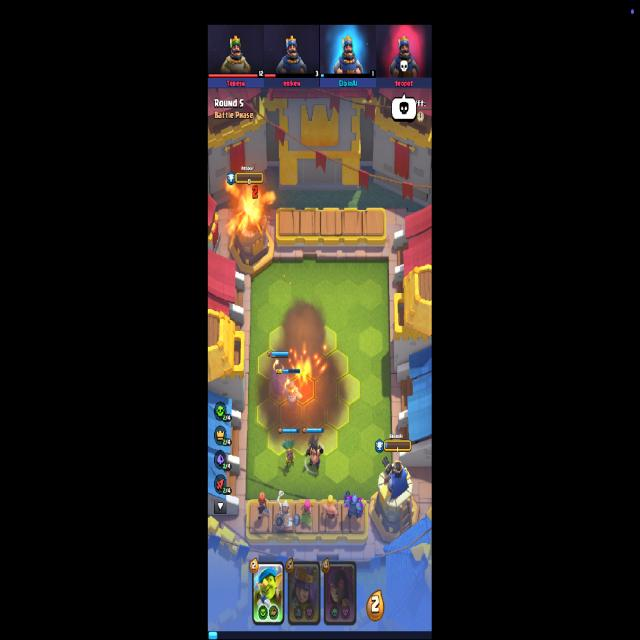archer: (300, 497, 314, 527)
barbarian: (321, 490, 340, 526)
card_archer_queen: (288, 560, 320, 625)
card_spear_goblin: (252, 562, 284, 626)
card_witch: (323, 560, 357, 626)
dart_goblin: (282, 438, 298, 469)
executioner: (305, 434, 324, 474)
giant_skeleton: (274, 490, 299, 534)
knight: (283, 381, 302, 416)
pekka: (344, 490, 367, 529)
valkyrie: (256, 494, 271, 523)
